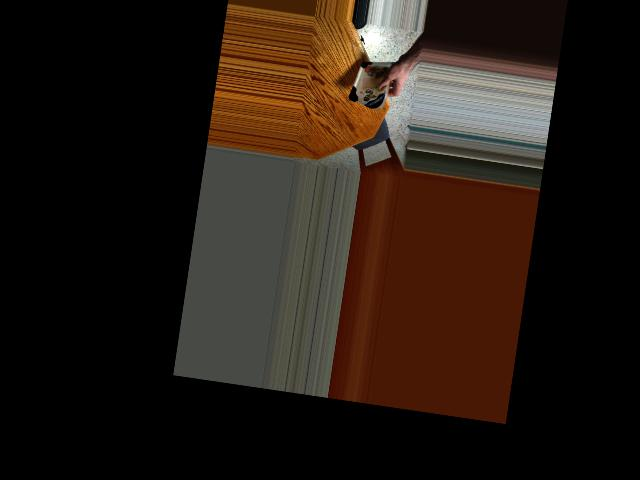cheese: (350, 49, 397, 113)
